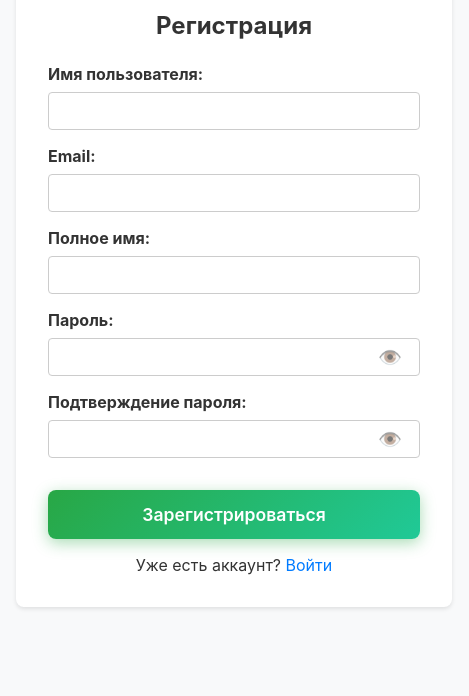
Test: Register Component › shows error when passwords do not match
// Fill required fields so we reach the password-match check
Step 1. Type "testuser" into the field labelled "Имя пользователя:" → {"x": 234, "y": 111}, box [48,92,420,130]
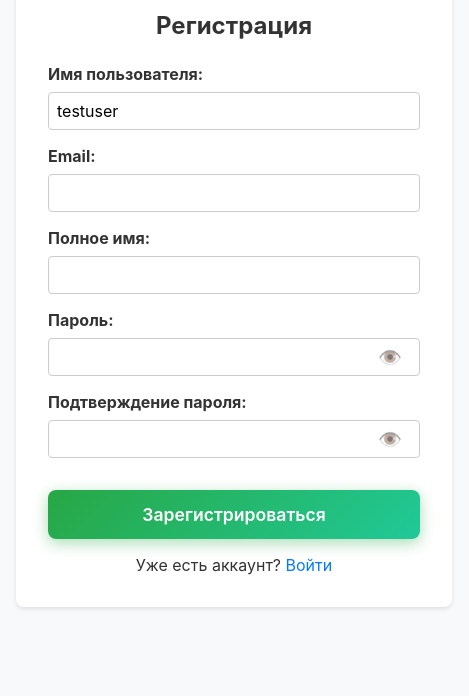
Step 2. Type "test@example.com" into the field labelled "Email:" → {"x": 234, "y": 193}, box [48,174,420,212]
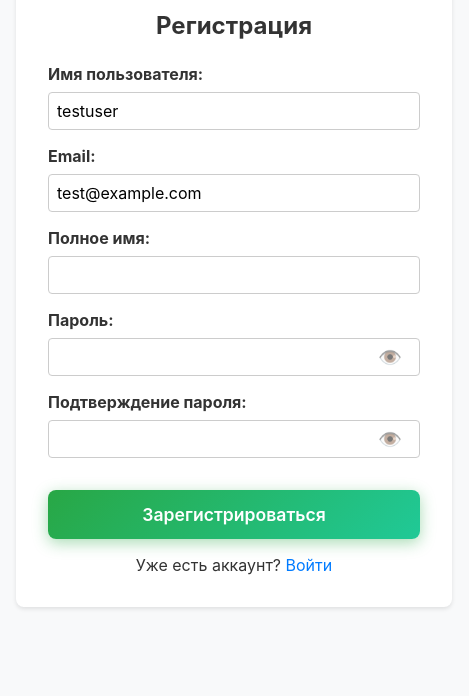
Step 3. Type "password123" into the password field labelled "Пароль:" → {"x": 234, "y": 357}, box [48,338,420,376]
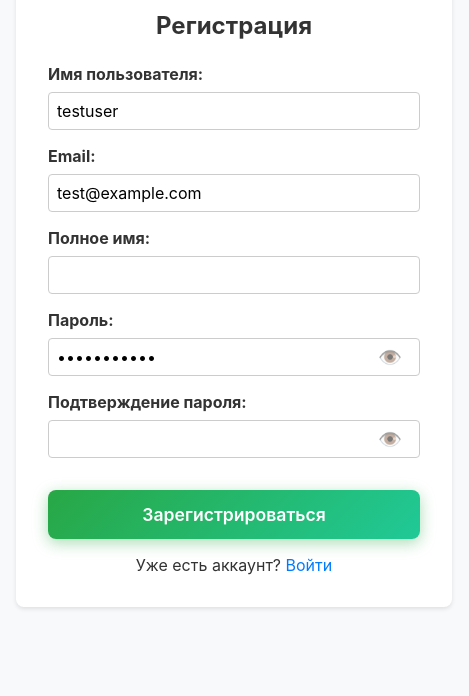
Step 4. Type "password456" into the password field labelled "Подтверждение пароля:" → {"x": 234, "y": 439}, box [48,420,420,458]
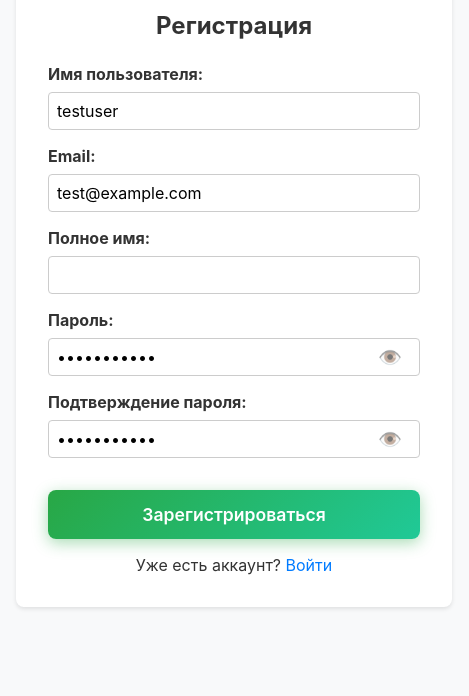
Step 5. Click the button "Зарегистрироваться" → {"x": 234, "y": 514}, box [48,490,420,539]
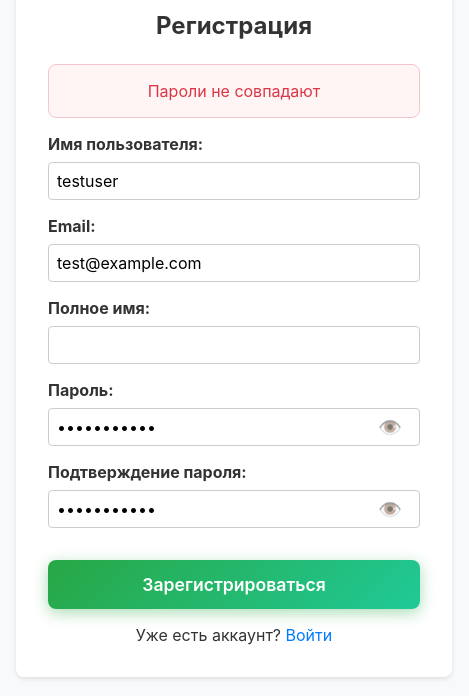
Result: the text "Пароли не совпадают" is shown at [48,64,420,118]
